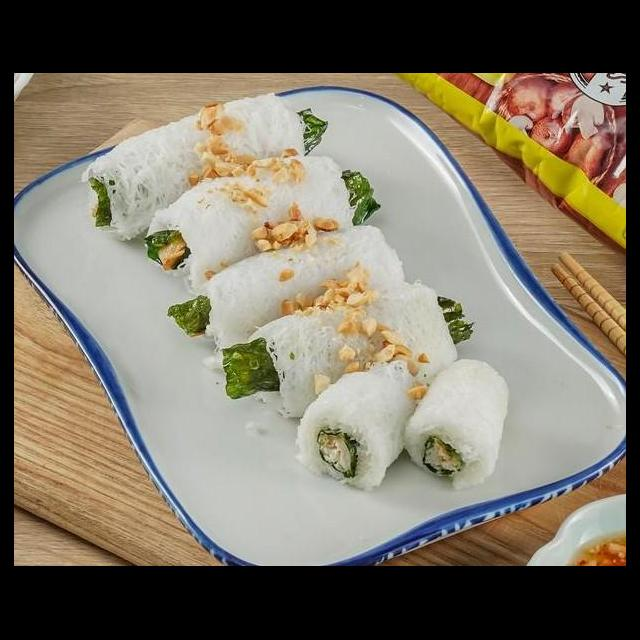banh hoi: (74, 85, 314, 248), (236, 274, 466, 421), (188, 220, 412, 362), (142, 150, 359, 292), (291, 348, 431, 492), (397, 354, 511, 492)
